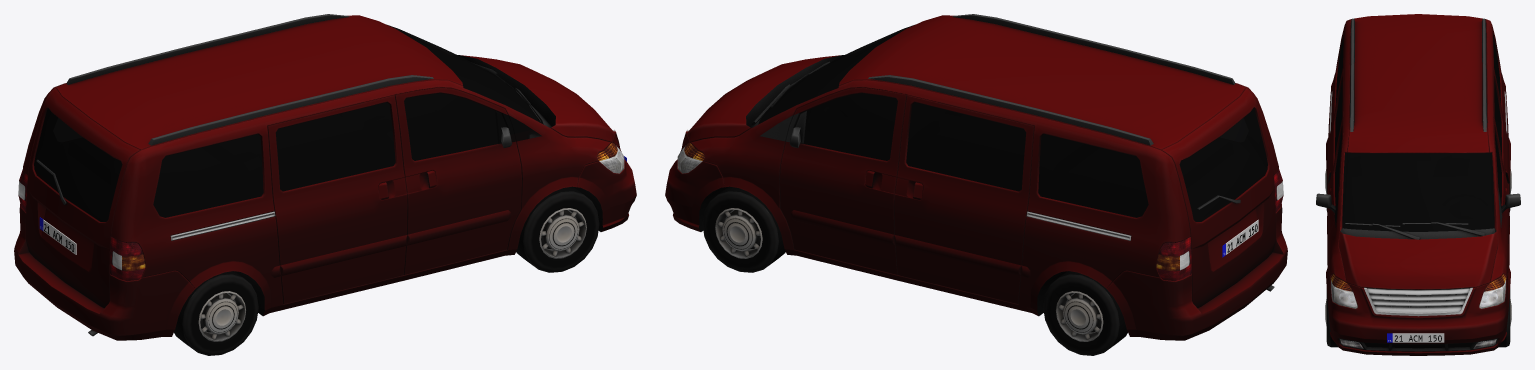
The model's file is CarPlated8515.dae.
3 views of the same model, side by side, from view 1: azimuth 30°, elevation 25°; view 2: azimuth 150°, elevation 25°; view 3: azimuth 270°, elevation 25° (orthographic). The views are drawn at different scales.
Parts seen in each view (by area): view 1: CarPlated8515; view 2: CarPlated8515; view 3: CarPlated8515.
Part boxes in pixels (x1,y1,x2,y2): CarPlated8515: [14, 14, 636, 355]; CarPlated8515: [665, 14, 1287, 355]; CarPlated8515: [1316, 14, 1520, 355].
Bounding box in the file's own units: 4.64 × 1.87 × 1.76.
